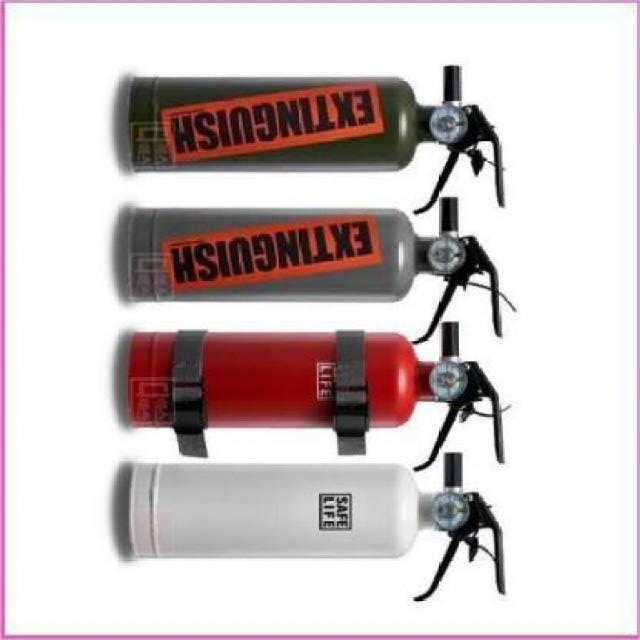fire extinguisher: (127, 65, 504, 218), (127, 320, 505, 472), (128, 452, 506, 603), (127, 197, 504, 346)
